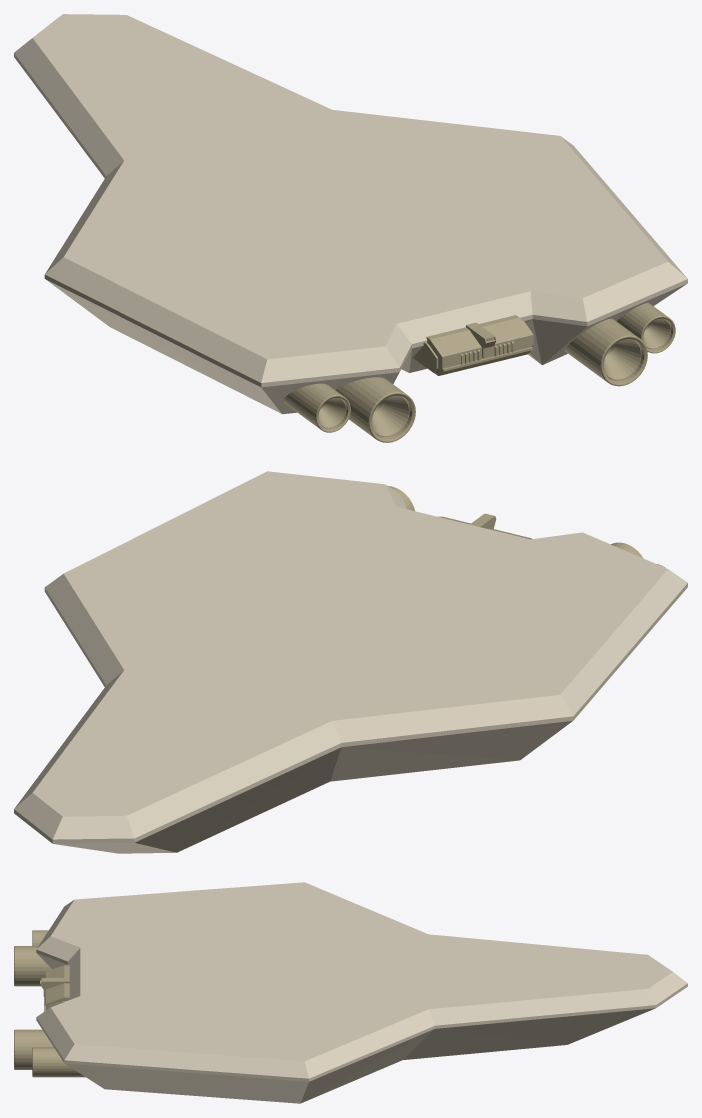
Rendered from TerrahyptMapHolo.dae.
The picture shows the model from 3 angles, top to bottom: view 1: azimuth 30°, elevation 25°; view 2: azimuth 150°, elevation 25°; view 3: azimuth 270°, elevation 25°; orthographic projection. The views are drawn at different scales.
Parts seen in each view (by area): view 1: TerrahyptModelUnderside; view 2: TerrahyptModelUnderside; view 3: TerrahyptModelUnderside.
Part boxes in pixels (x1,y1,x2,y2): TerrahyptModelUnderside: (14, 14, 687, 442); TerrahyptModelUnderside: (14, 471, 687, 853); TerrahyptModelUnderside: (14, 882, 687, 1103).
Bounding box in the file's own units: 87.79 × 131 × 16.36.
